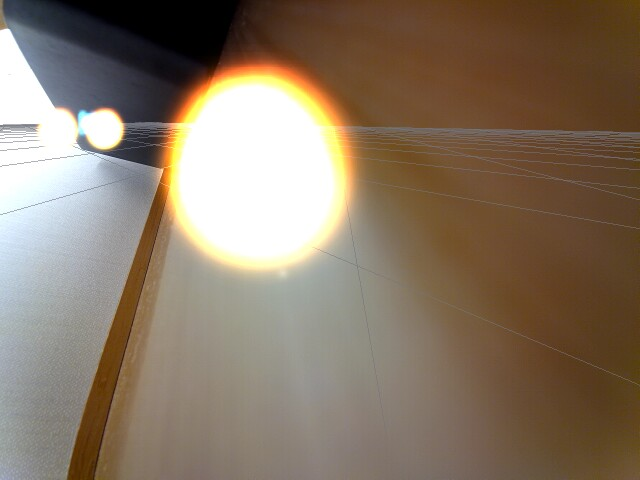firebig: (164, 58, 363, 280)
